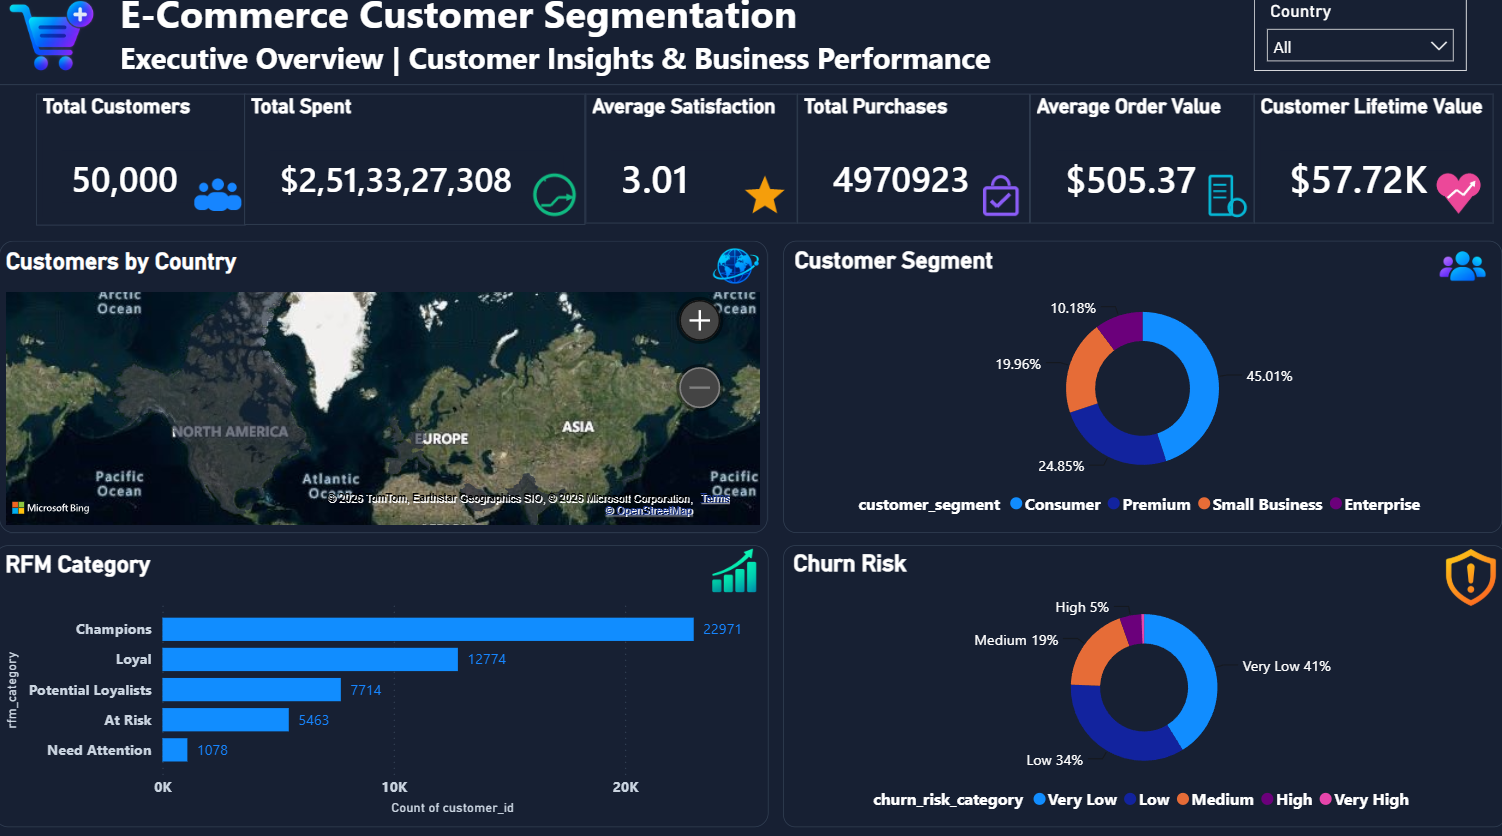

This screenshot's page, from the dashboard's own definition file:
{"tool":"powerbi","page":{"name":"Executive Overview","canvas":[1280,720],"ordinal":0},"visuals":[{"type":"shape","box":[11.9,7.4,1256,90.7],"z":0},{"type":"textbox","box":[11.7,0,1257.9,87.5],"z":1000},{"type":"slicer","title":"Country","fields":{"Values":["E-commerce_Customer_Segmentation_2026.country"]},"box":[1061.3,11.9,176.9,63.9],"z":2000},{"type":"cardVisual","title":"      Total Customers","fields":{"Data":["CountNonNull(E-commerce_Customer_Segmentation_2026.customer_id)"]},"box":[46.6,94.7,174.1,109.5],"z":3000},{"type":"cardVisual","title":"Total Spent","fields":{"Data":["Sum(E-commerce_Customer_Segmentation_2026.total_spent_usd)"]},"box":[220.1,94.7,284.2,109.3],"z":4000},{"type":"cardVisual","title":"Total Purchases","fields":{"Data":["Sum(E-commerce_Customer_Segmentation_2026.total_purchases)"]},"box":[680.7,94.7,193.9,107.9],"z":5000},{"type":"cardVisual","title":"Average Order Value","fields":{"Data":["Avg(E-commerce_Customer_Segmentation_2026.avg_order_value_usd)"]},"box":[874.6,94.7,186.6,107.9],"z":6000},{"type":"cardVisual","title":"Average Satisfaction","fields":{"Data":["Avg(E-commerce_Customer_Segmentation_2026.satisfaction_score)"]},"box":[504.3,94.7,176.4,107.9],"z":7000},{"type":"cardVisual","title":"Customer Lifetime Value","fields":{"Data":["Avg(E-commerce_Customer_Segmentation_2026.customer_lifetime_value_usd)"]},"box":[1061.2,94.7,199.7,107.9],"z":8000},{"type":"filledMap","title":"Customers by Country","fields":{"Category":["E-commerce_Customer_Segmentation_2026.country"]},"box":[16,217.2,639.9,243.4],"z":9000},{"type":"donutChart","title":"Customer Segment","fields":{"Category":["E-commerce_Customer_Segmentation_2026.customer_segment"],"Y":["CountNonNull(E-commerce_Customer_Segmentation_2026.customer_id)"]},"box":[669.1,217.2,599.1,243.4],"z":10000},{"type":"clusteredBarChart","title":"RFM Category","fields":{"Category":["E-commerce_Customer_Segmentation_2026.rfm_category"],"Y":["CountNonNull(E-commerce_Customer_Segmentation_2026.customer_id)"]},"box":[11.9,471.2,645.1,234.9],"z":11000},{"type":"donutChart","title":"Churn Risk","fields":{"Category":["E-commerce_Customer_Segmentation_2026.churn_risk_category"],"Y":["CountNonNull(E-commerce_Customer_Segmentation_2026.customer_id)"]},"box":[669.1,470.8,602,234.7],"z":12000},{"type":"image","box":[0,7.4,121.9,75.8],"z":13000},{"type":"image","box":[588.3,217.7,80.8,42.3],"z":14000},{"type":"image","box":[1191.5,217.7,88.3,42.3],"z":15000},{"type":"image","box":[595.8,471.4,63.4,42.3],"z":16000},{"type":"image","box":[1212.7,471.4,58.5,53.5],"z":17000},{"type":"image","box":[175.4,155.5,46,49.8],"z":18000},{"type":"image","box":[451.5,154.2,53.5,48.5],"z":19000},{"type":"image","box":[628.1,155.5,51,48.5],"z":20000},{"type":"image","box":[827.1,155.5,47.3,47.3],"z":21000},{"type":"image","box":[1016.1,149.3,44.8,62.2],"z":22000},{"type":"image","box":[1204,149.3,54.7,56],"z":23000}]}

Visuals, with their boxes in screenshot pixels (x1, y1, x2, y2), scaled from the page's 1280x720 canvas onto the 1502x836 screenshot:
shape: x1=14 y1=9 x2=1488 y2=114
textbox: x1=14 y1=0 x2=1490 y2=102
"Country" slicer: x1=1245 y1=14 x2=1453 y2=88
"      Total Customers" cardVisual: x1=55 y1=110 x2=259 y2=237
"Total Spent" cardVisual: x1=258 y1=110 x2=592 y2=237
"Total Purchases" cardVisual: x1=799 y1=110 x2=1026 y2=235
"Average Order Value" cardVisual: x1=1026 y1=110 x2=1245 y2=235
"Average Satisfaction" cardVisual: x1=592 y1=110 x2=799 y2=235
"Customer Lifetime Value" cardVisual: x1=1245 y1=110 x2=1480 y2=235
"Customers by Country" filledMap: x1=19 y1=252 x2=770 y2=535
"Customer Segment" donutChart: x1=785 y1=252 x2=1488 y2=535
"RFM Category" clusteredBarChart: x1=14 y1=547 x2=771 y2=820
"Churn Risk" donutChart: x1=785 y1=547 x2=1492 y2=819
image: x1=0 y1=9 x2=143 y2=97
image: x1=690 y1=253 x2=785 y2=302
image: x1=1398 y1=253 x2=1501 y2=302
image: x1=699 y1=547 x2=774 y2=596
image: x1=1423 y1=547 x2=1492 y2=609
image: x1=206 y1=181 x2=260 y2=238
image: x1=530 y1=179 x2=593 y2=235
image: x1=737 y1=181 x2=797 y2=237
image: x1=971 y1=181 x2=1026 y2=235
image: x1=1192 y1=173 x2=1245 y2=246
image: x1=1413 y1=173 x2=1477 y2=238
